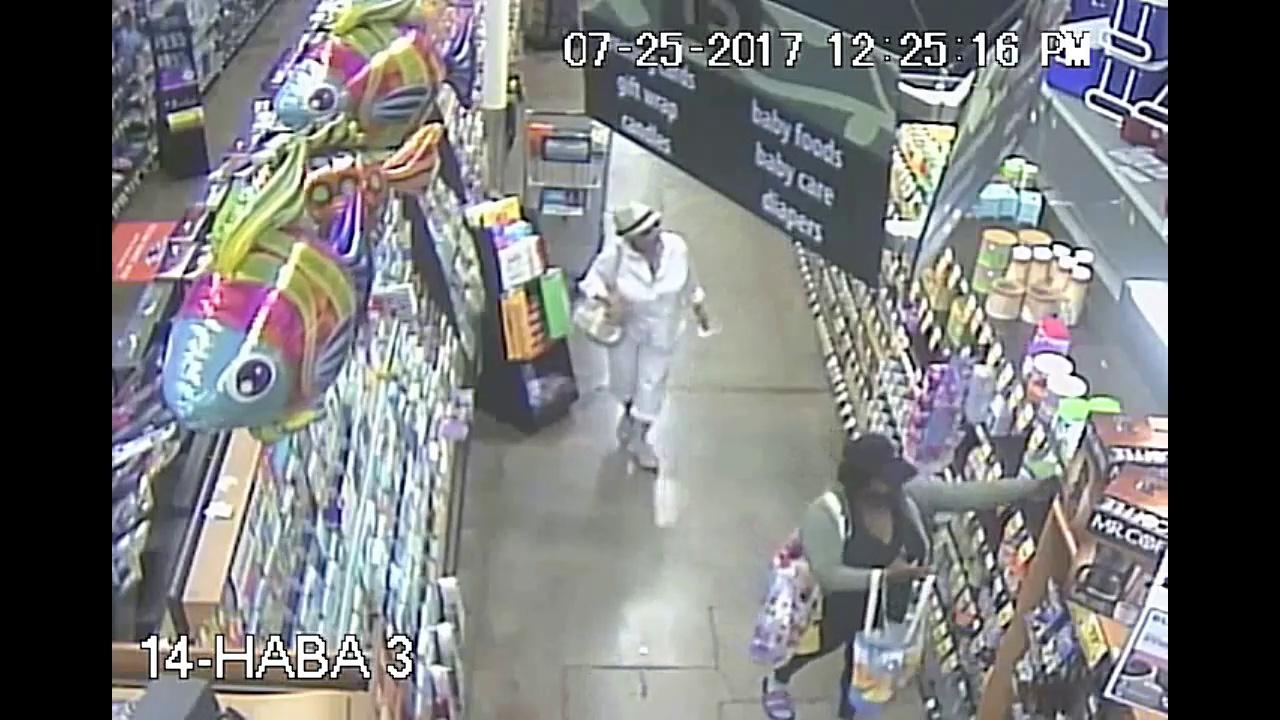3: (750, 419, 1067, 720), (544, 183, 743, 508)
persone: (838, 581, 927, 710), (751, 540, 824, 672), (573, 291, 635, 355)
